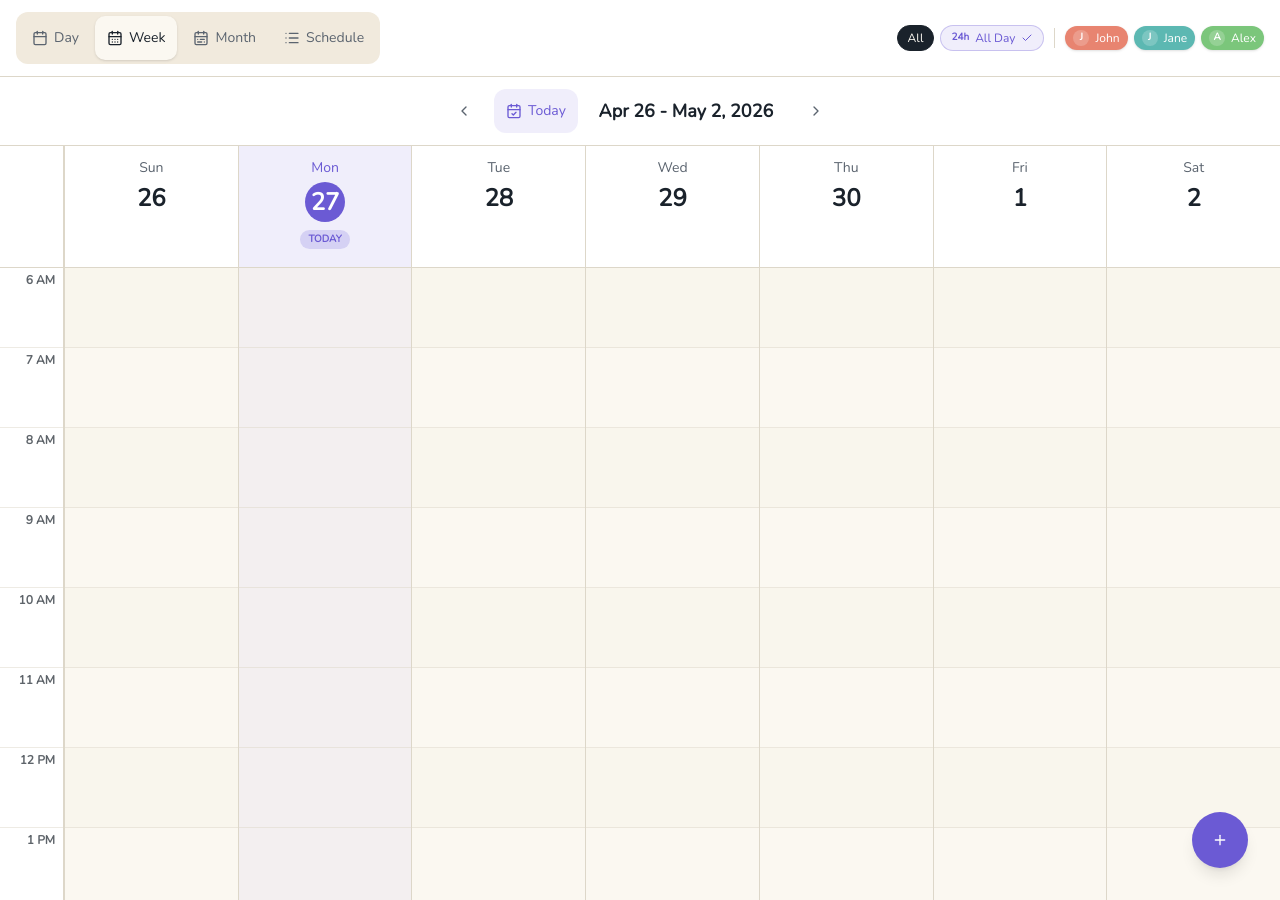
Test: CalendarModule › Add Event Flow › submits new event to API and shows it in calendar
The image size is (1280, 900).
Click the button named "add event" at (1220, 840), box [1192,812,1248,868]
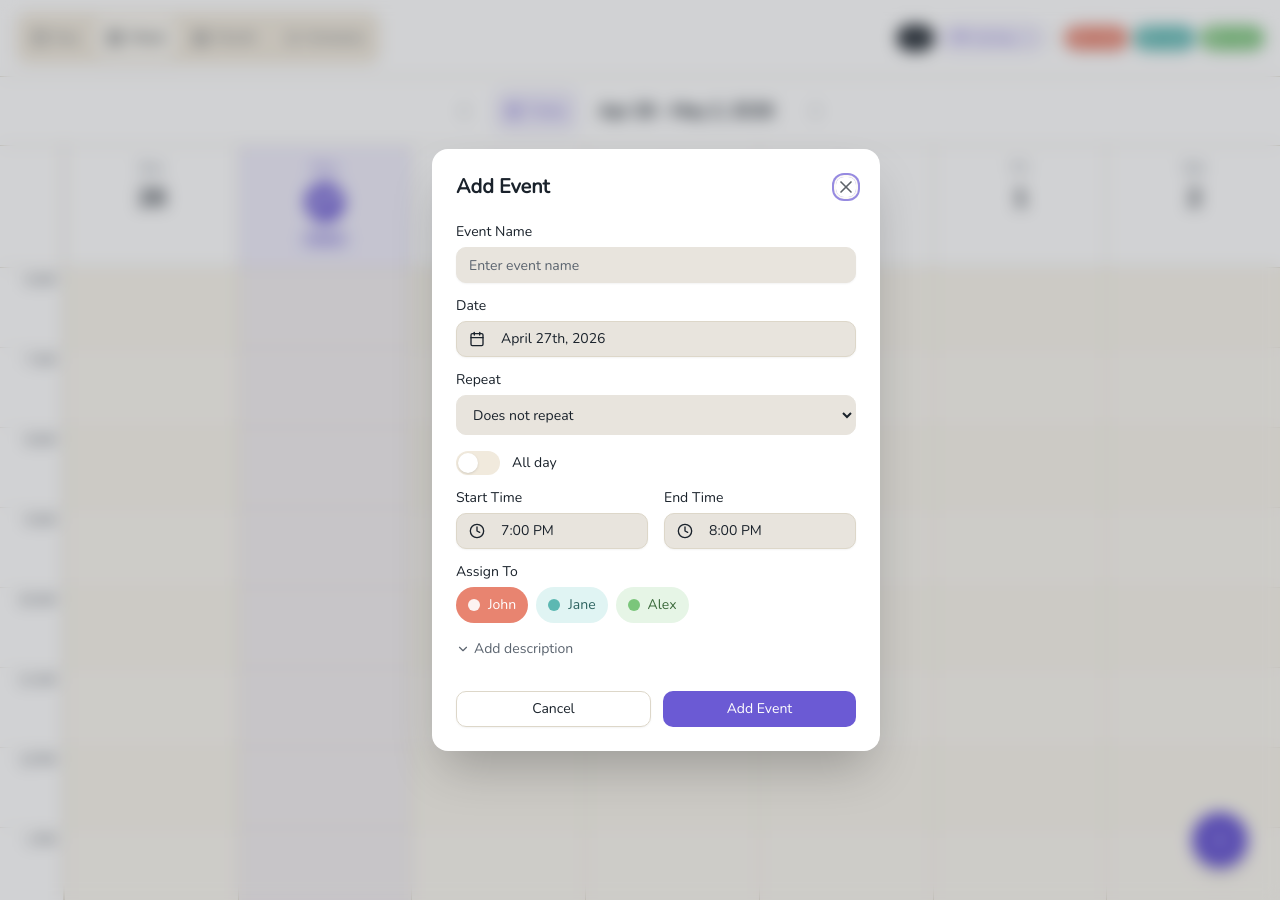
Check: the dialog is shown, box [432,149,880,751]
Type "New Test Event" into the field labelled "Event Name" at (656, 265), box [456,247,856,283]
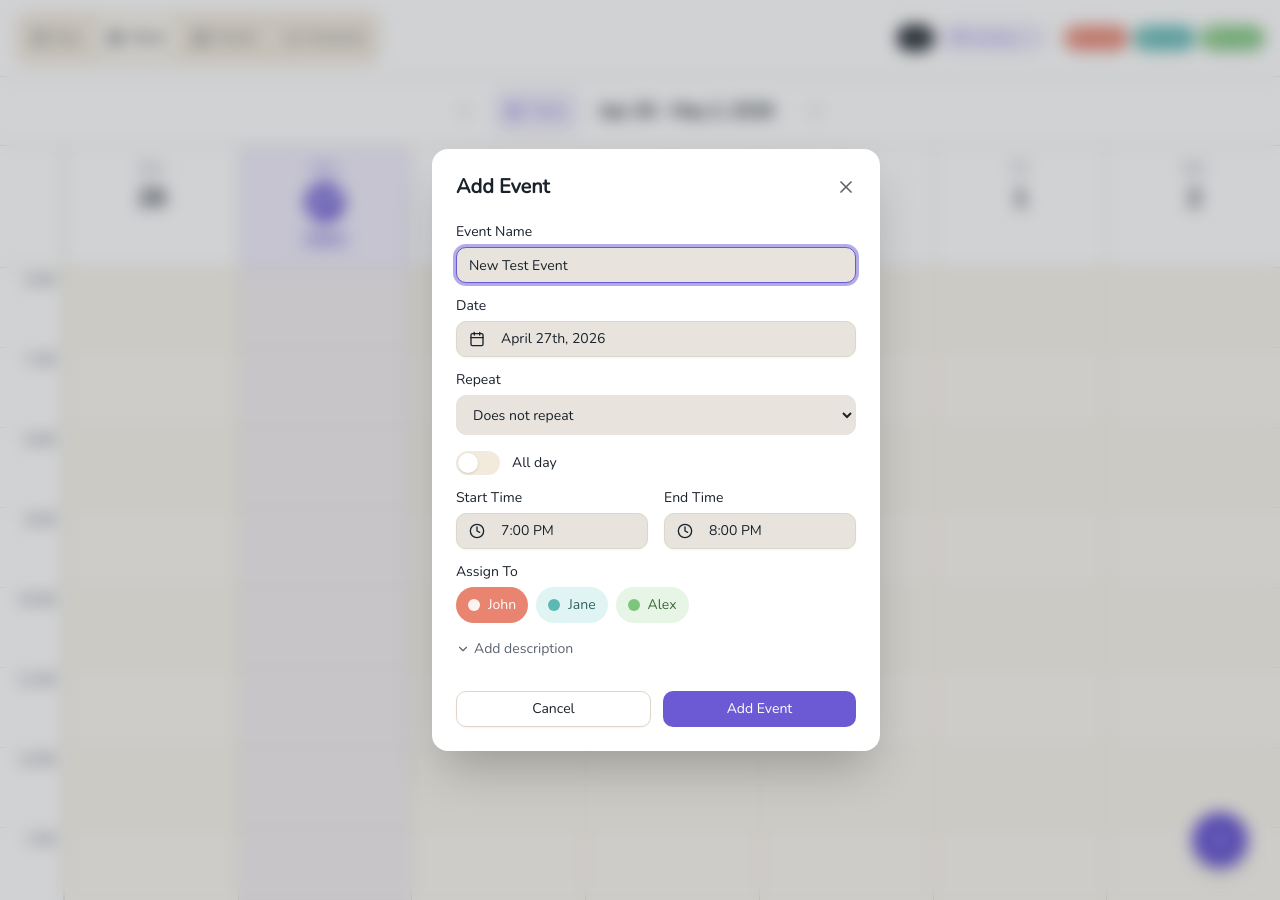
Click the button "Add Event" at (760, 709), box [663,691,856,727]
(page scrolled)
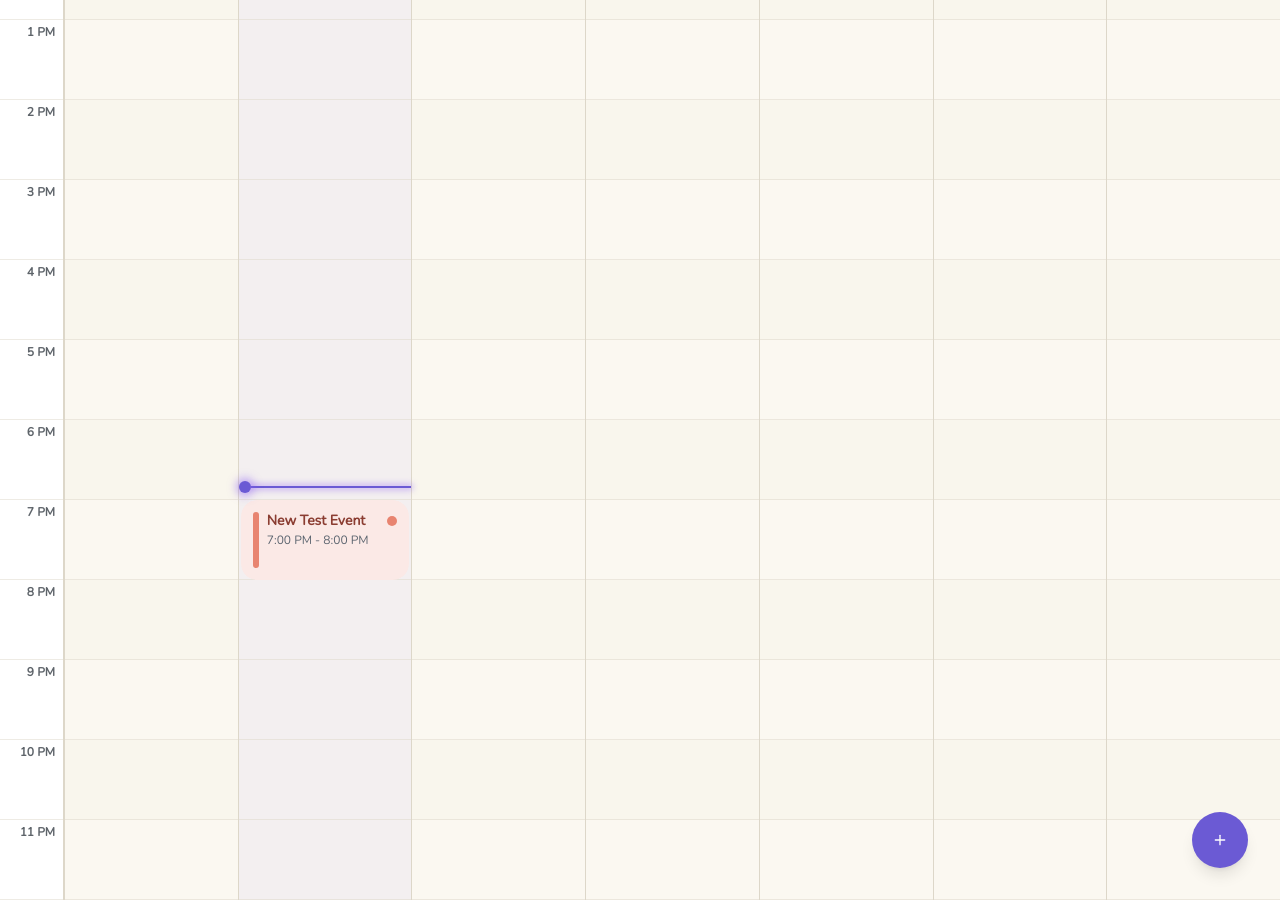
Check: the dialog is gone
Check: the heading "New Test Event" is shown, box [267,512,379,530]
